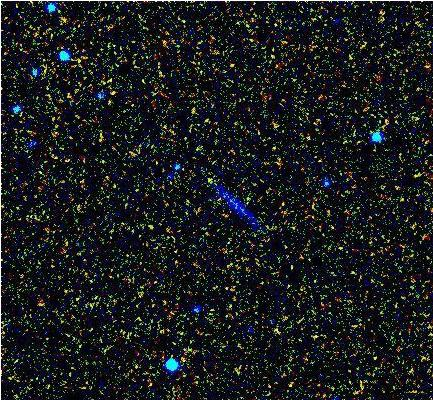star: (197, 166, 227, 196)
